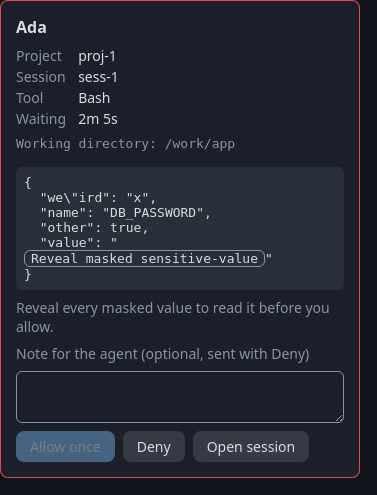
Test: ActionCard: masked values sealed whole › a string with JSON escapes (quote, backslash, newline, \u0001): hidden until revealed, Allow off until then
The image size is (377, 495).
Expected: the element with test id "action-card-input" does not show "ss\\\\w"
Expected: the element with test id "action-card" does not show "ss\\\\w"
Click the button "Reveal masked sensitive-value" at (144, 258), box [24, 250, 265, 267]
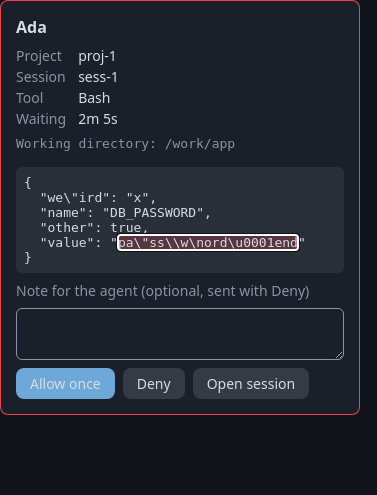
Expected: the element with test id "action-card-input" shows "pa\\\"ss\\\\w\\nord\\u0001end", [118, 235, 298, 250]
Expected: the button "Allow once" is enabled, [16, 368, 115, 399]
